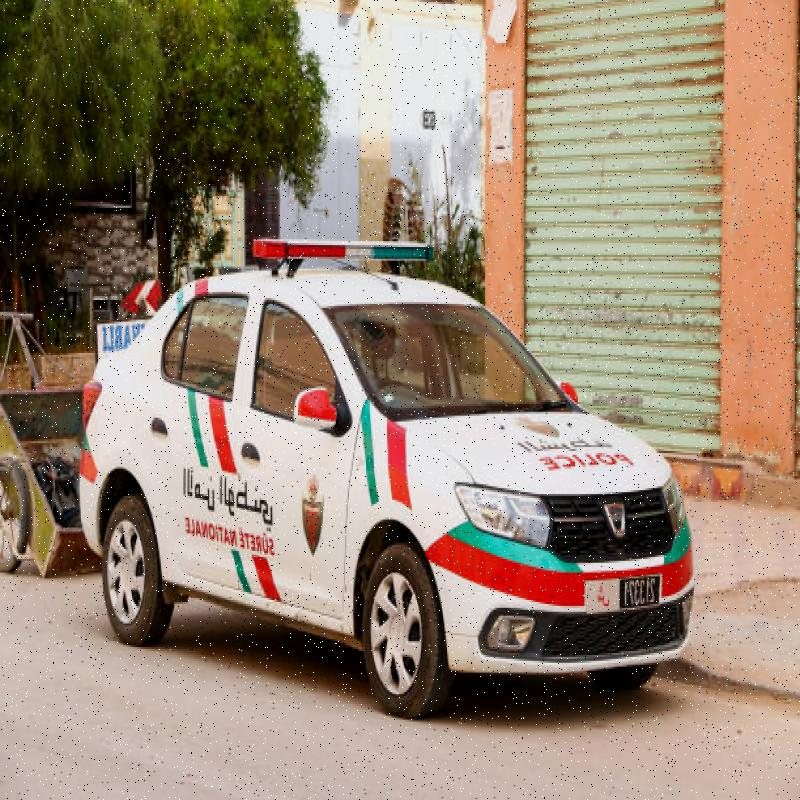AmbulanceSiren: (247, 222, 440, 294)
